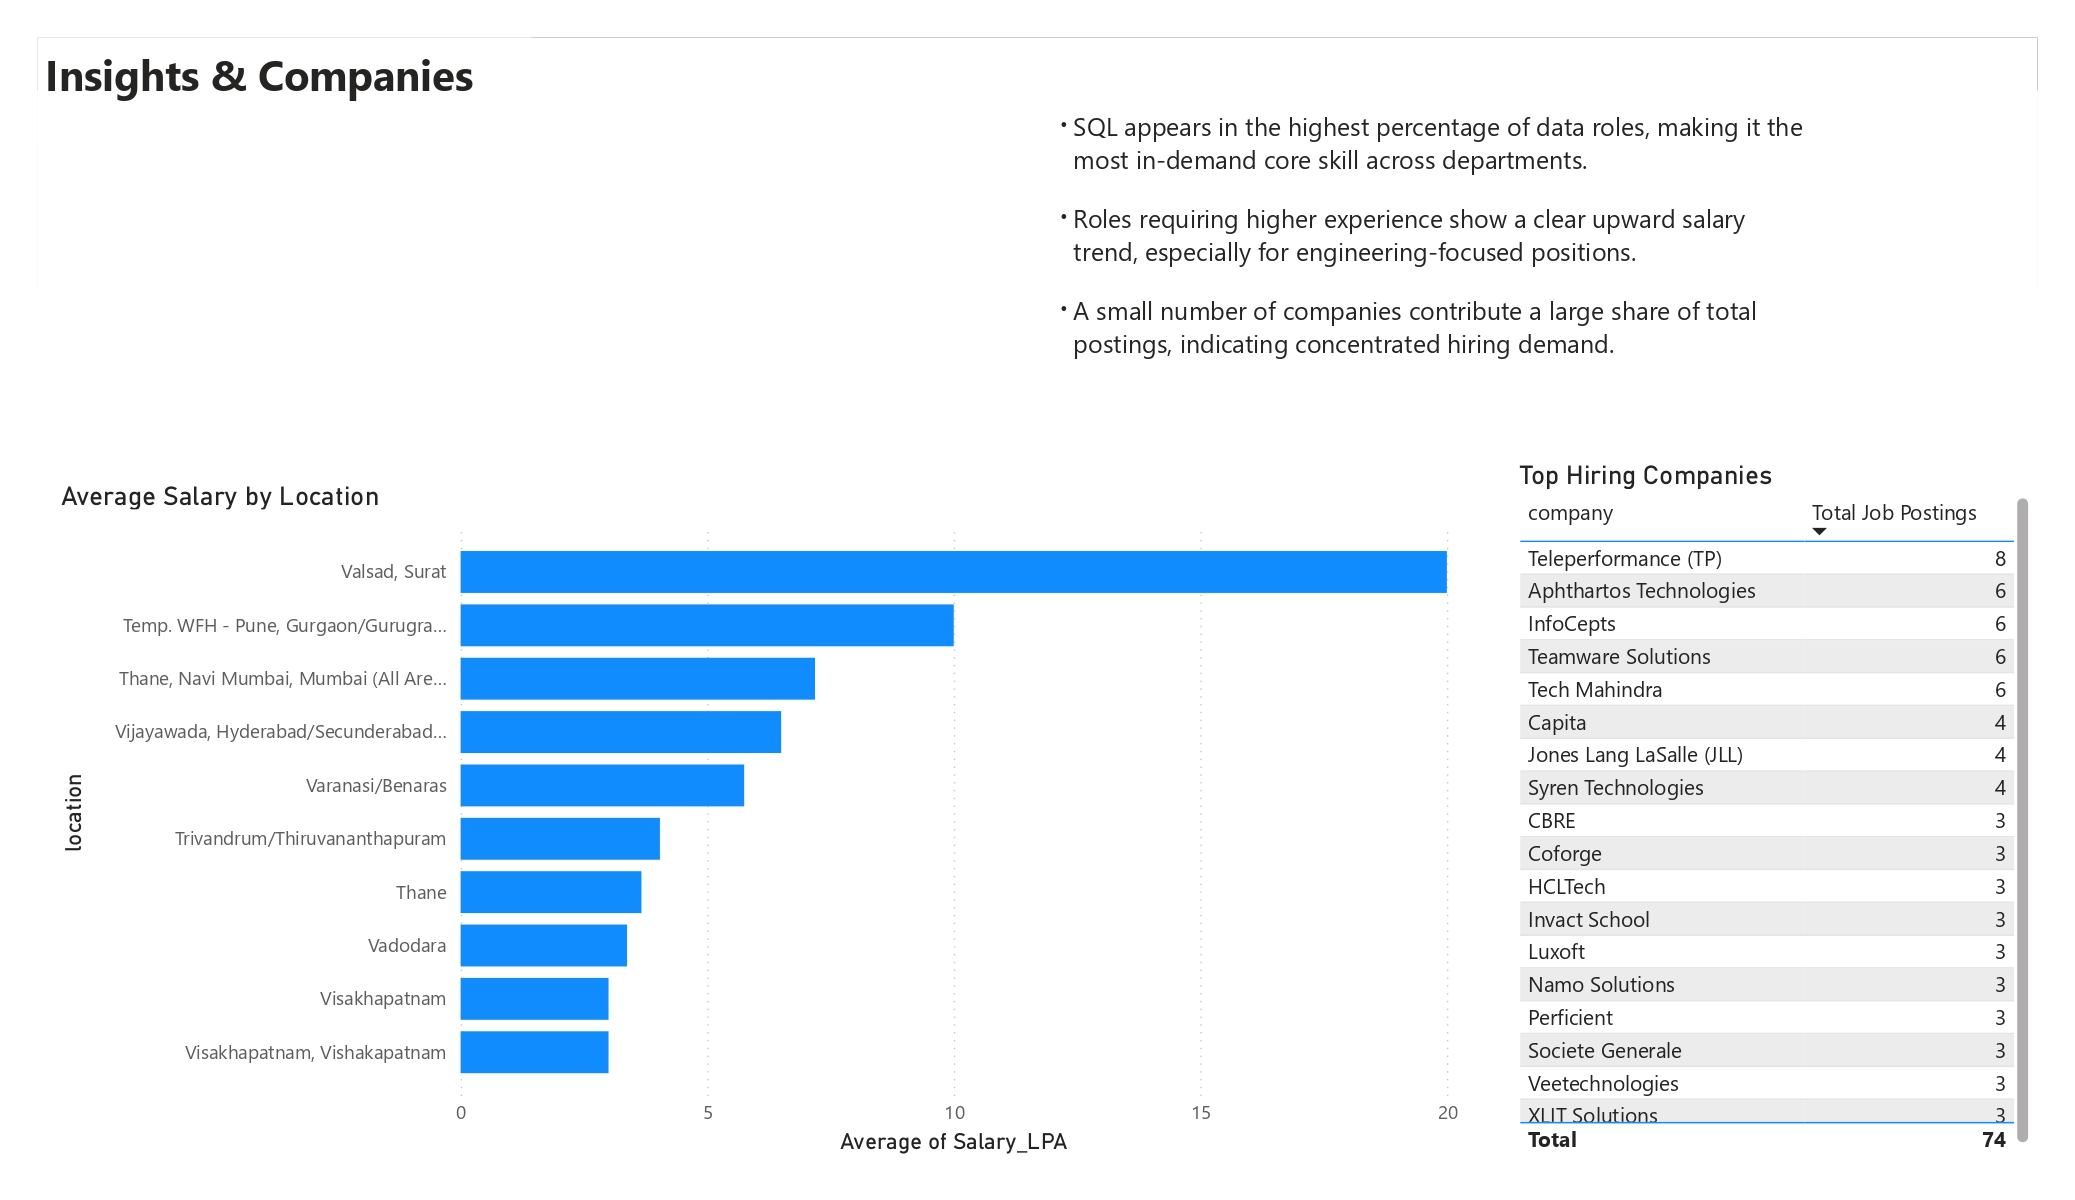

The dashboard page shown, as its layout file describes it:
{"tool":"powerbi","page":{"name":"Insights & Companies","canvas":[1280,720],"ordinal":3},"visuals":[{"type":"tableEx","title":"Top Hiring Companies","fields":{"Values":["FactJobs.company","FactJobSkills.Total Job Postings"]},"box":[942.5,270,337.5,450],"z":0},{"type":"clusteredBarChart","title":"Average Salary by Location","fields":{"Category":["FactJobs.location"],"Y":["Avg(FactJobs.Salary_LPA)"]},"box":[10,282.5,903.8,437.5],"z":1},{"type":"textbox","box":[640,41.2,495,192.5],"z":2},{"type":"textbox","box":[0,0,316.2,68.8],"z":3}]}

Visuals, with their boxes on the page's 1280x720 design canvas (x1, y1, x2, y2). These are canvas units, not pixel positions in the 2075x1200 screenshot, which may show the page scaled, cropped or inside an application window:
"Top Hiring Companies" tableEx: bbox=[942, 270, 1280, 720]
"Average Salary by Location" clusteredBarChart: bbox=[10, 282, 914, 720]
textbox: bbox=[640, 41, 1135, 234]
textbox: bbox=[0, 0, 316, 69]
